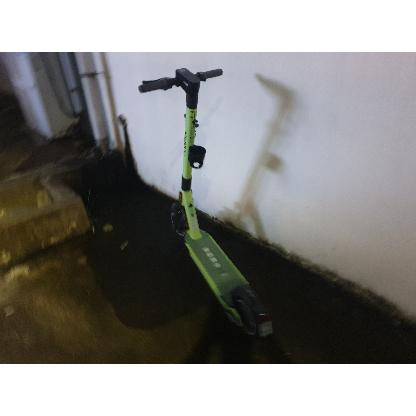bike: (137, 67, 286, 358)
